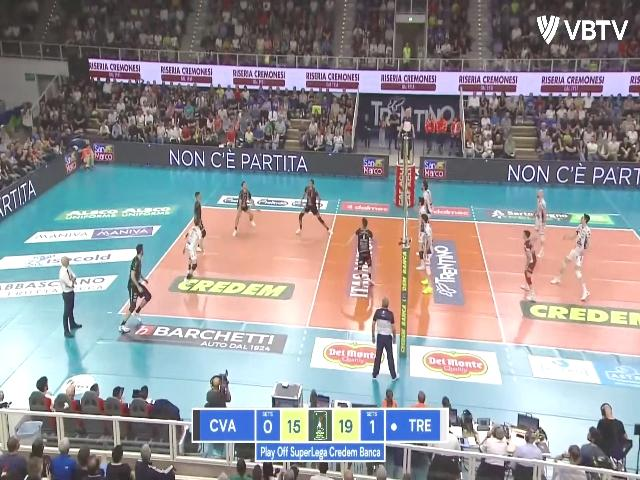volleyball court: (118, 203, 639, 354)
